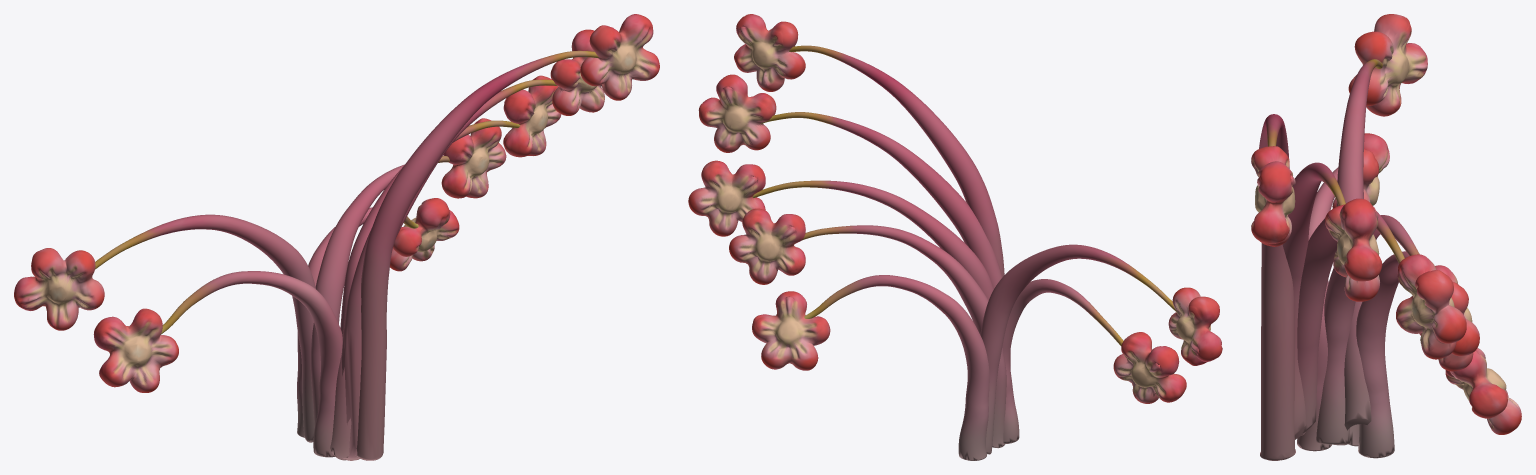
3 views of the same model, side by side, from view 1: azimuth 30°, elevation 25°; view 2: azimuth 150°, elevation 25°; view 3: azimuth 270°, elevation 25° (orthographic). The views are drawn at different scales.
Parts seen in each view (by area): view 1: LOD 1_6720493226539483728_d61aa4d54b65f9a4b9f71cf390cbd75f; view 2: LOD 1_6720493226539483728_d61aa4d54b65f9a4b9f71cf390cbd75f; view 3: LOD 1_6720493226539483728_d61aa4d54b65f9a4b9f71cf390cbd75f.
Boxes of the visible parts, x1,y1,x2,y2 form: LOD 1_6720493226539483728_d61aa4d54b65f9a4b9f71cf390cbd75f: (14,14,659,460); LOD 1_6720493226539483728_d61aa4d54b65f9a4b9f71cf390cbd75f: (688,14,1222,460); LOD 1_6720493226539483728_d61aa4d54b65f9a4b9f71cf390cbd75f: (1251,14,1521,460).
Size of the model in its own units: 13.85 by 8.6 by 4.66.
